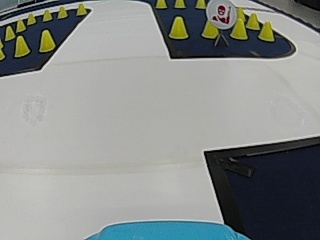evil: (206, 0, 236, 28)
